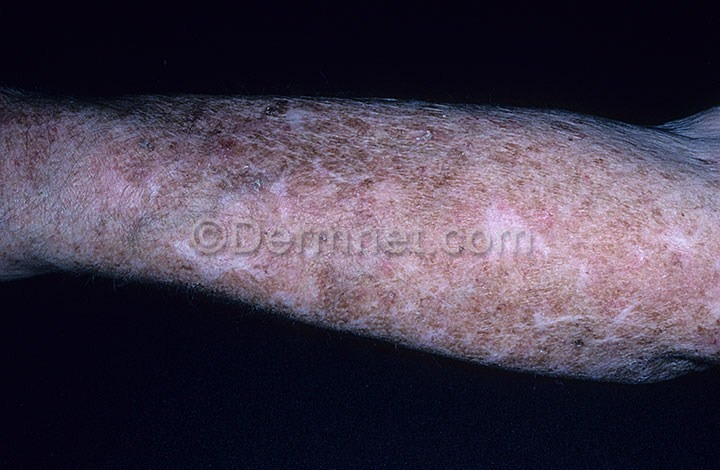Melasma: (0, 90, 720, 221), (9, 255, 720, 372)
